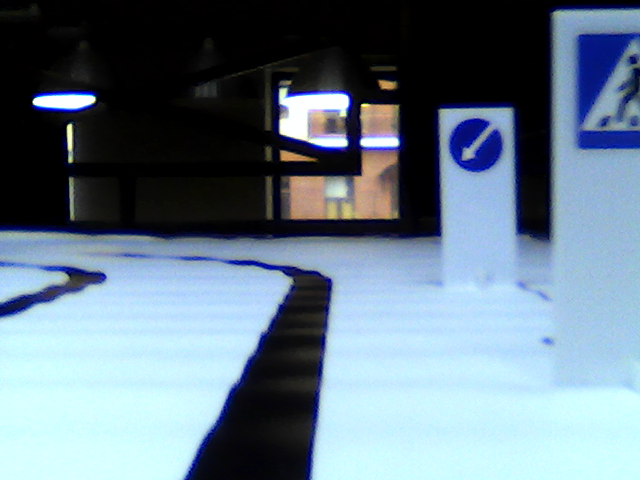pesh: (574, 31, 640, 150)
prep: (450, 116, 504, 175)
